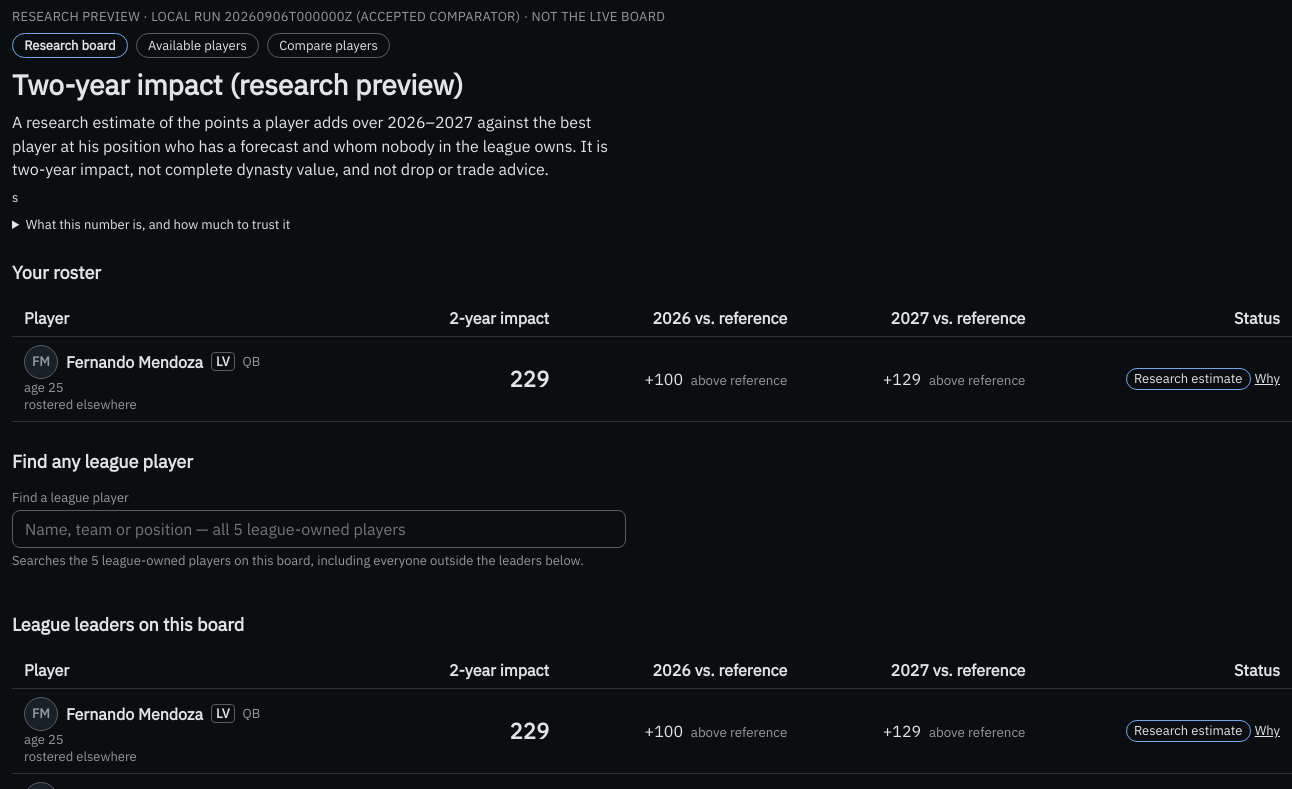
it: ResearchPreview search announcements › announces the match count and the no-match state through one status region, not the table
Expected: the message shows "Searches the 5 league-owned players", [12,552,584,569]
Type "deep" into the search field labelled "Find a league player".
click(319, 529); type("deep")  # box [12,510,626,548]
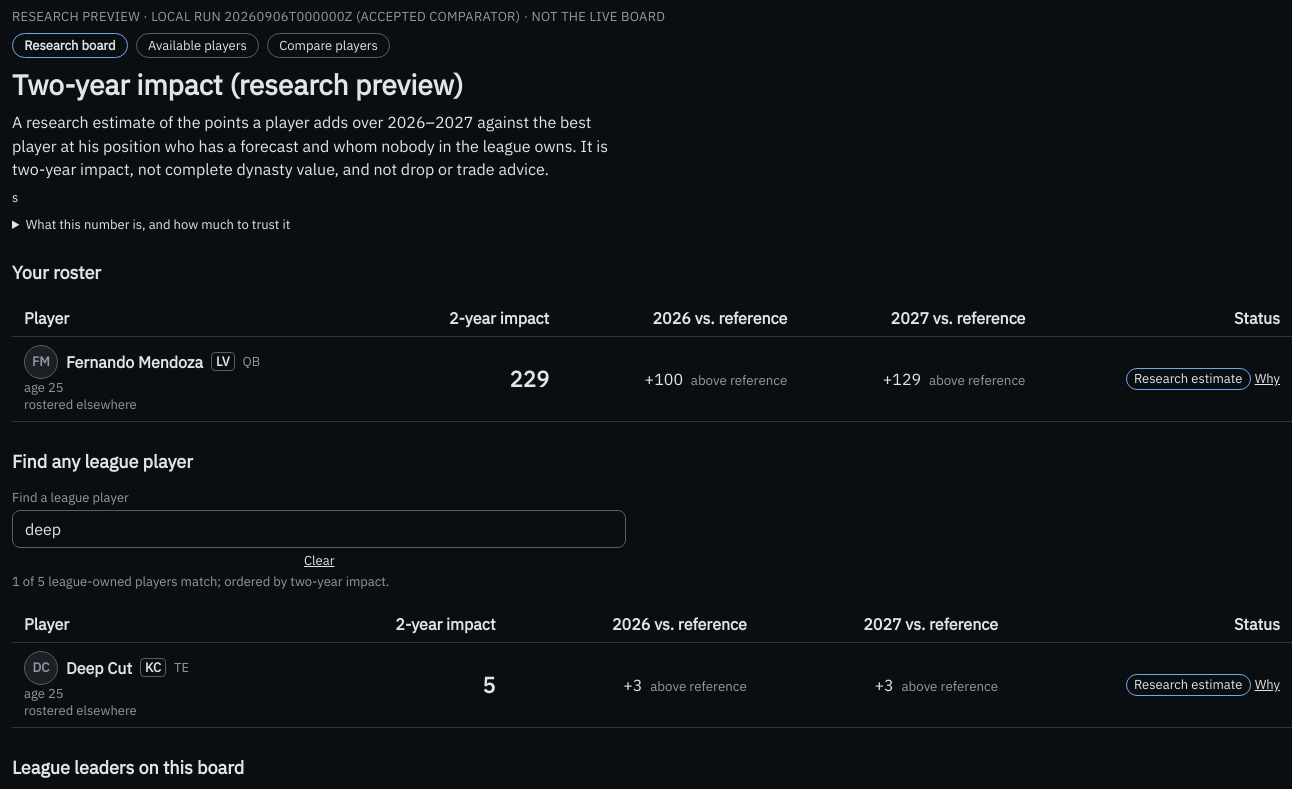
Expected: the message shows "1 of 5 league-owned players match", [12,573,389,590]
Replace the text in the search field labelled "Find a league player" with "zzz" at (319, 529), box [12,510,626,548]
(page scrolled)
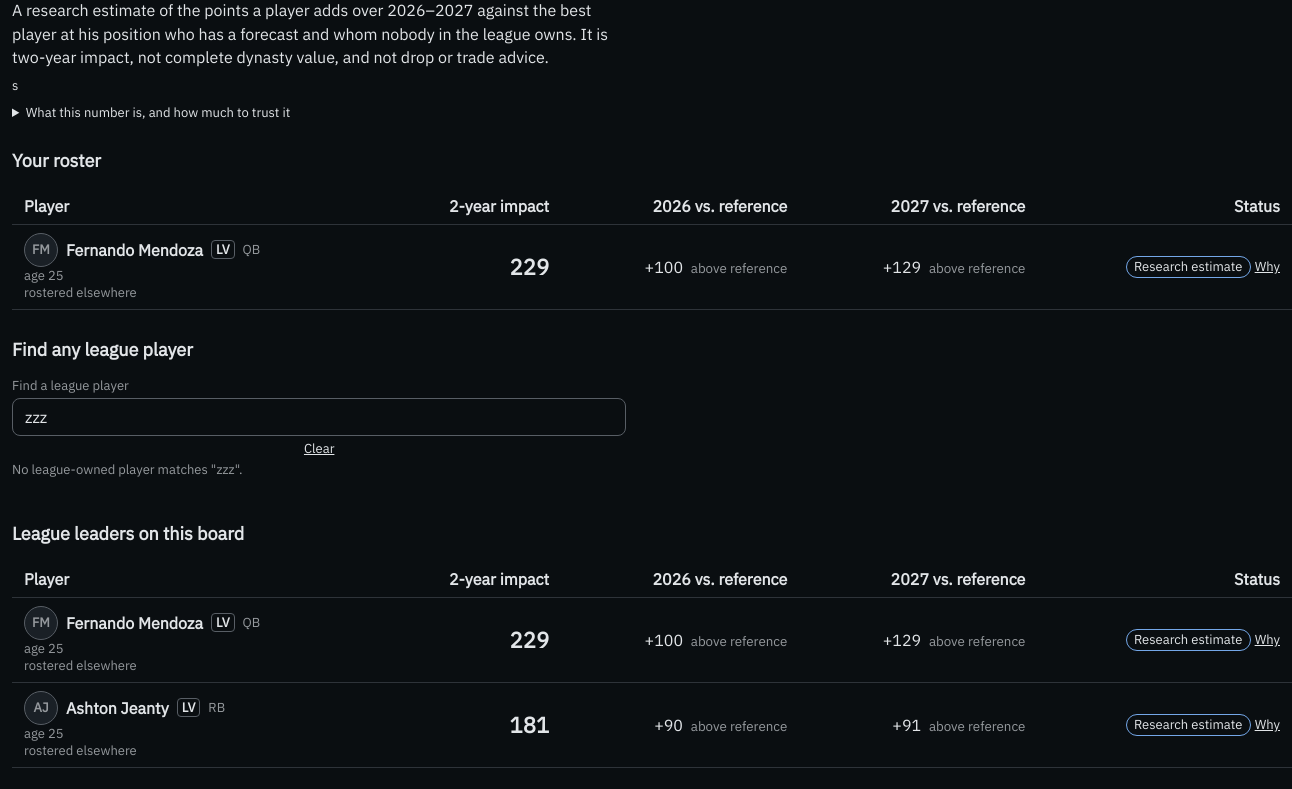
Expected: the number of messages is 1, [12,461,242,478]
Expected: the message shows "No league-owned player matches \"zzz\"", [12,461,242,478]
